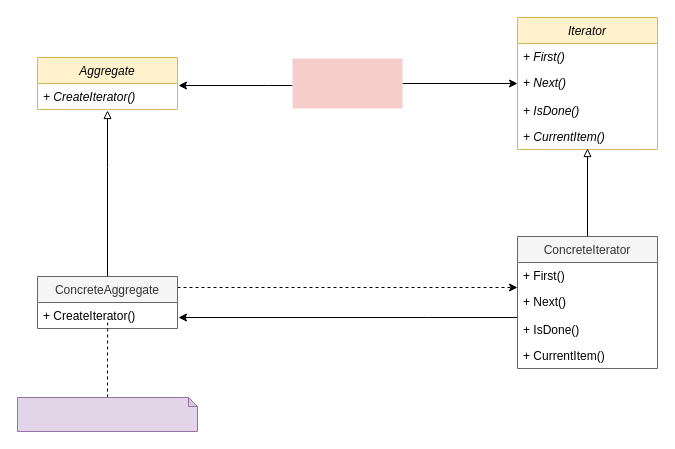
The diagram is 675 pixels wide and 449 high, and some of its shapes have lost their labels. Here are the shapes that lost their labels. From the top down, the centre of each, then its label:
point (347, 83): Client
point (107, 414): return new ConcreteIterator(this)
